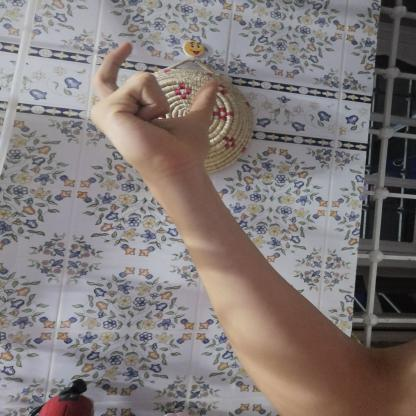NOON: (76, 31, 233, 185)
